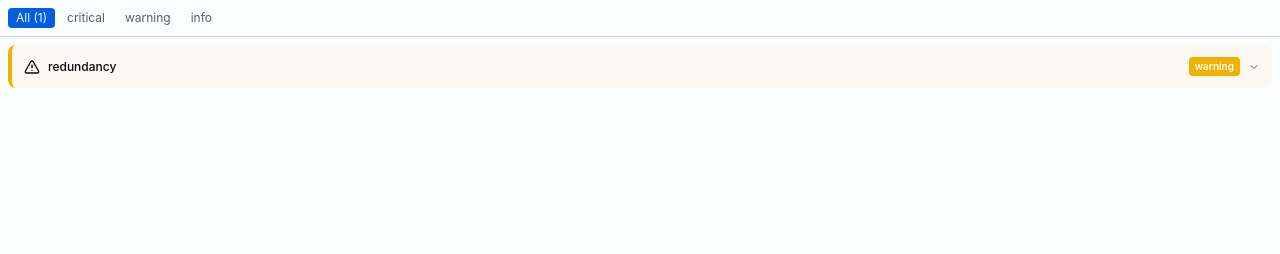
Test: FindingsPanel › clicking a card expands it
Click the button "redundancy warning" at (82, 66), box [12,45,1272,88]
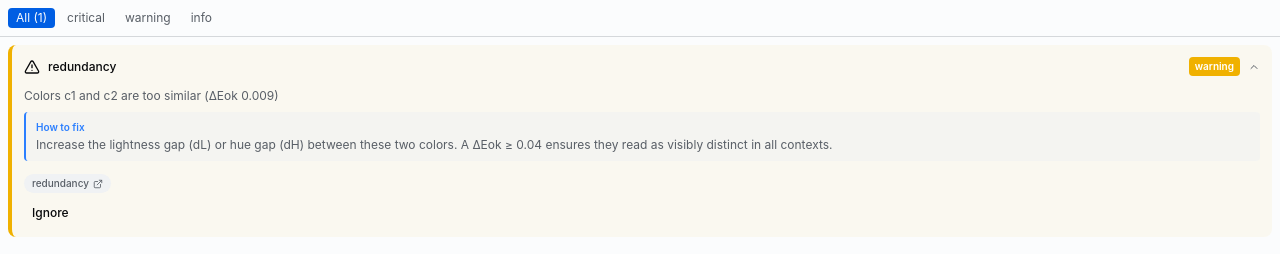
Expected: the text "Colors c1 and c2 are too similar (ΔEok 0.009)" is shown, [24,88,279,103]
